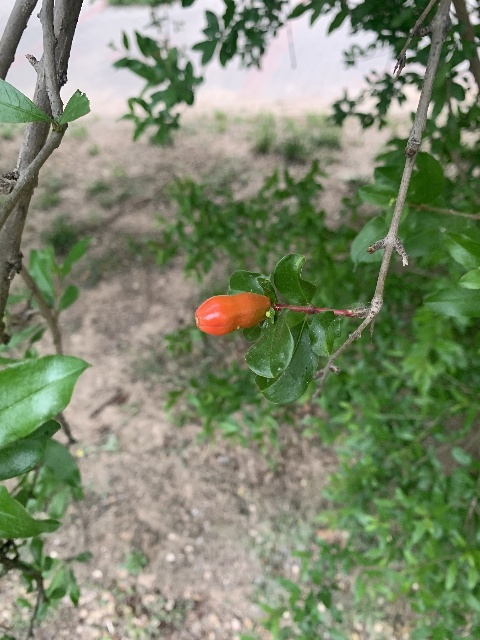bud: (194, 292, 270, 335)
